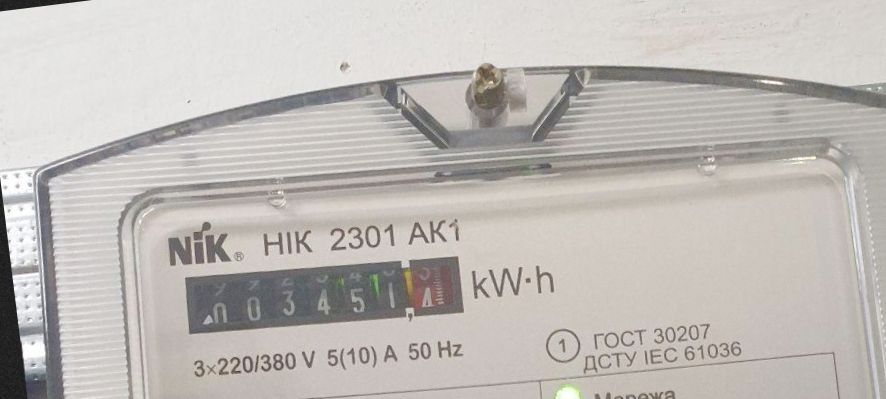0: (207, 296, 230, 326), (242, 292, 264, 322)
1: (381, 277, 401, 310)
3: (276, 285, 299, 318)
4: (310, 285, 334, 319), (414, 282, 437, 312)
5: (346, 282, 367, 315)
screen: (174, 237, 471, 354)
